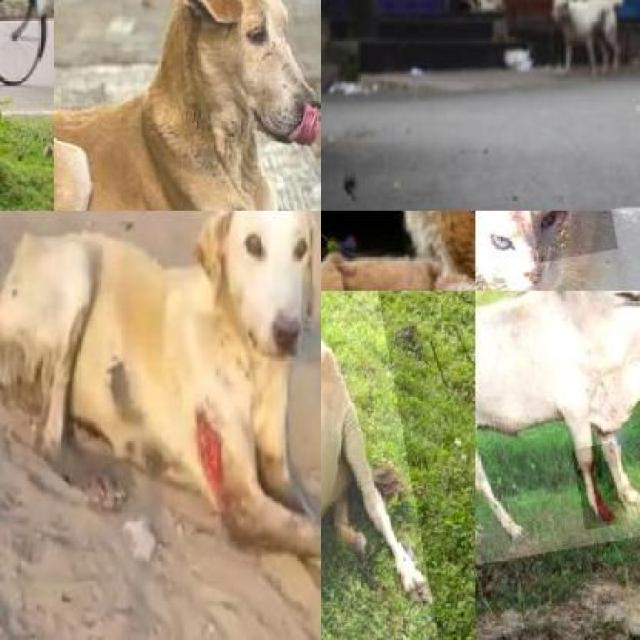cat: (377, 210, 475, 268)
cow: (475, 291, 640, 572), (320, 291, 443, 640)
dog: (0, 211, 320, 598), (54, 0, 320, 211), (546, 0, 637, 92)
injured: (172, 399, 240, 513), (511, 210, 617, 262), (570, 442, 628, 529)
